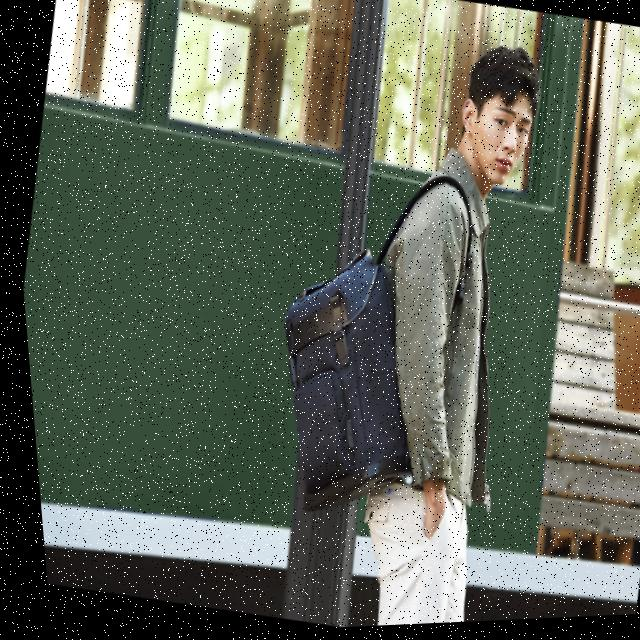backpack: (232, 212, 469, 533)
